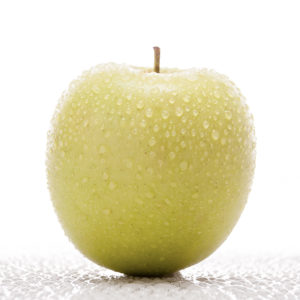apple/: (33, 34, 265, 281)
